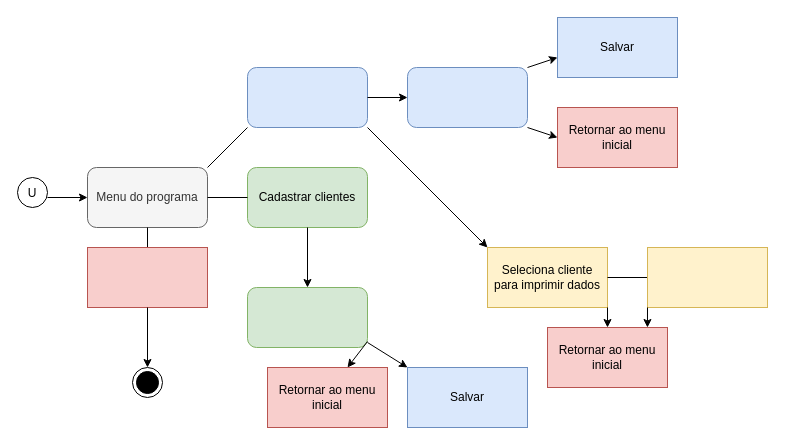
Some shapes in this 785 by 445 pixel diagram are drawn without their labels. Each missing label, with the centre of its shape:
Abre formulário de cadastro de cliente: the point at 307,317
Botão sair do programa: the point at 147,277
Editar dados de cliente: the point at 467,97
Seleciona impressora e imprime: the point at 707,277
Visualizar clientes cadastrados: the point at 307,97
